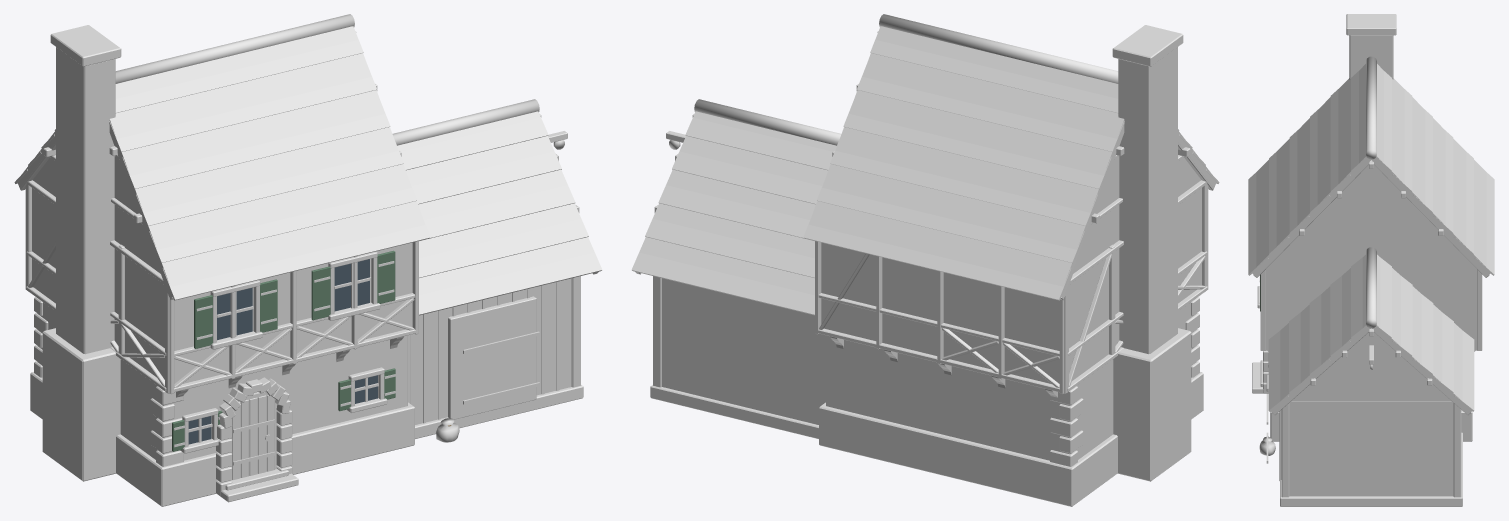
Rendered from col_10_grange_tuiles_ocre.fbx.
The picture shows the model from 3 angles, left to right: view 1: azimuth 30°, elevation 25°; view 2: azimuth 150°, elevation 25°; view 3: azimuth 270°, elevation 25°; orthographic projection. The views are drawn at different scales.
Parts seen in each view (by area): view 1: col_10_grange_tuiles_ocre_LOD0; view 2: col_10_grange_tuiles_ocre_LOD0; view 3: col_10_grange_tuiles_ocre_LOD0.
Part boxes in pixels (x1=…): col_10_grange_tuiles_ocre_LOD0: x1=14, y1=14, x2=602, y2=506; col_10_grange_tuiles_ocre_LOD0: x1=631, y1=14, x2=1219, y2=506; col_10_grange_tuiles_ocre_LOD0: x1=1248, y1=14, x2=1494, y2=506.
Size of what is drawn, in the model's own units: 11.95 by 9.53 by 6.59.
